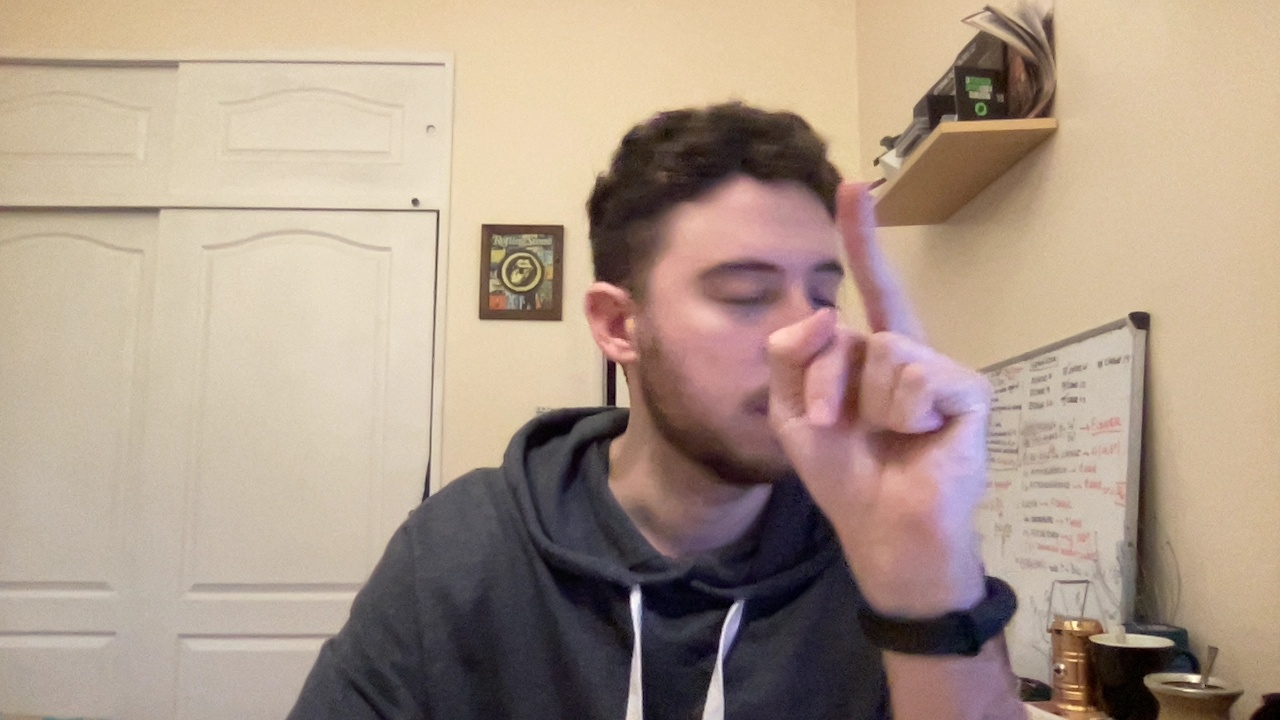mayor: (764, 168, 1027, 564)
